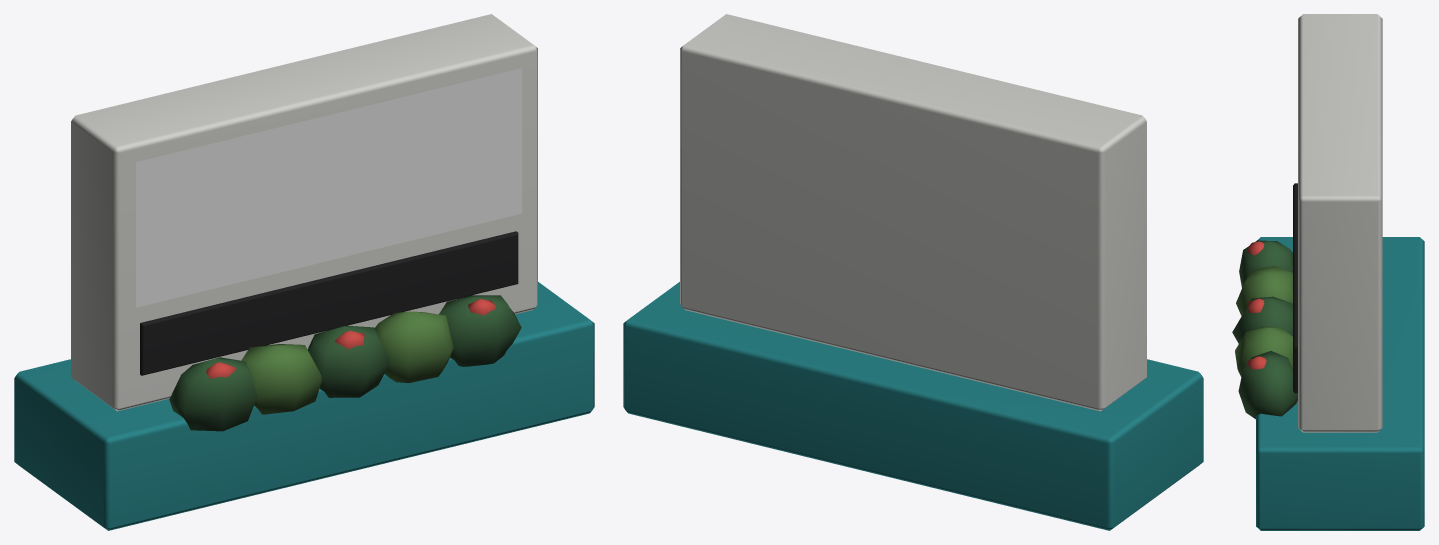
The model's file is MarqueeFL.fbx.
3 views of the same model, side by side, from view 1: azimuth 30°, elevation 25°; view 2: azimuth 150°, elevation 25°; view 3: azimuth 270°, elevation 25° (orthographic). The views are drawn at different scales.
Visible parts, largest first — view 1: MarqueeFL; view 2: MarqueeFL; view 3: MarqueeFL.
Boxes of the visible parts, bbox=[...] form: MarqueeFL: bbox=[14, 14, 594, 530]; MarqueeFL: bbox=[623, 14, 1203, 530]; MarqueeFL: bbox=[1232, 14, 1424, 530].
Size of the model in its own units: 3 by 2.1 by 1.14.
